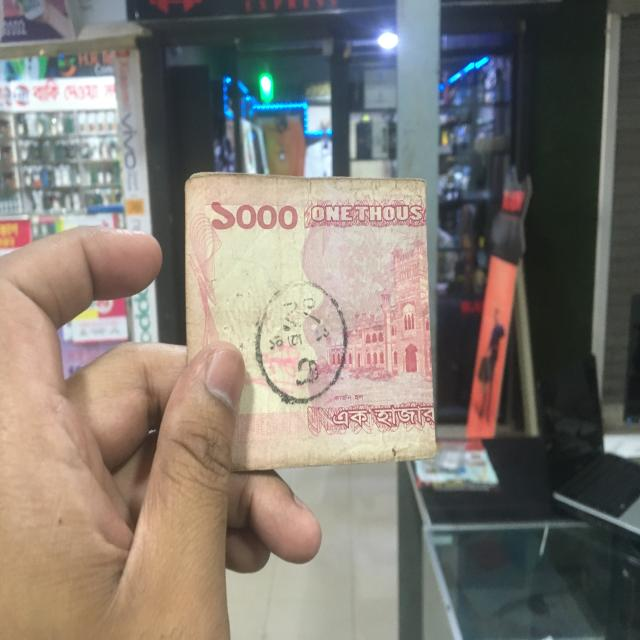Taka: (186, 164, 440, 456)
